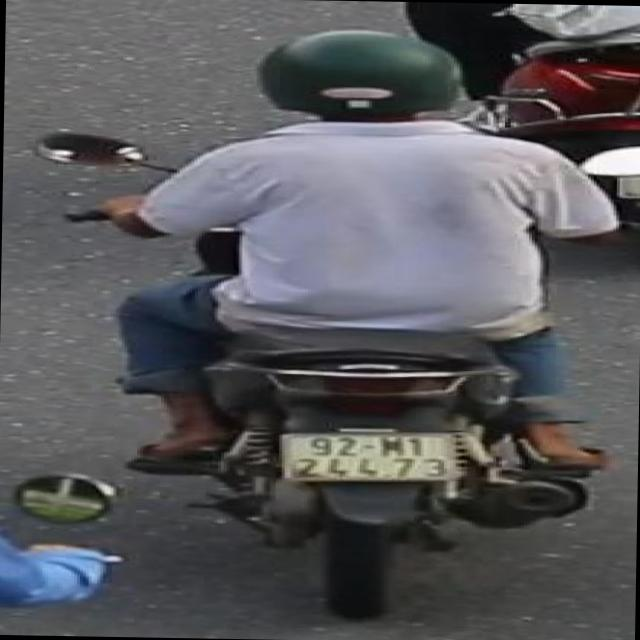LP: (275, 422, 473, 486)
helmet: (245, 21, 484, 144)
